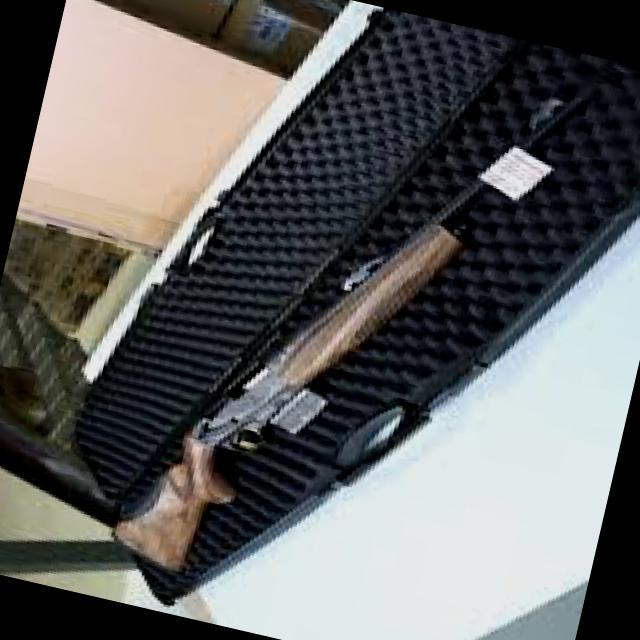long weapon: (81, 61, 616, 613)
